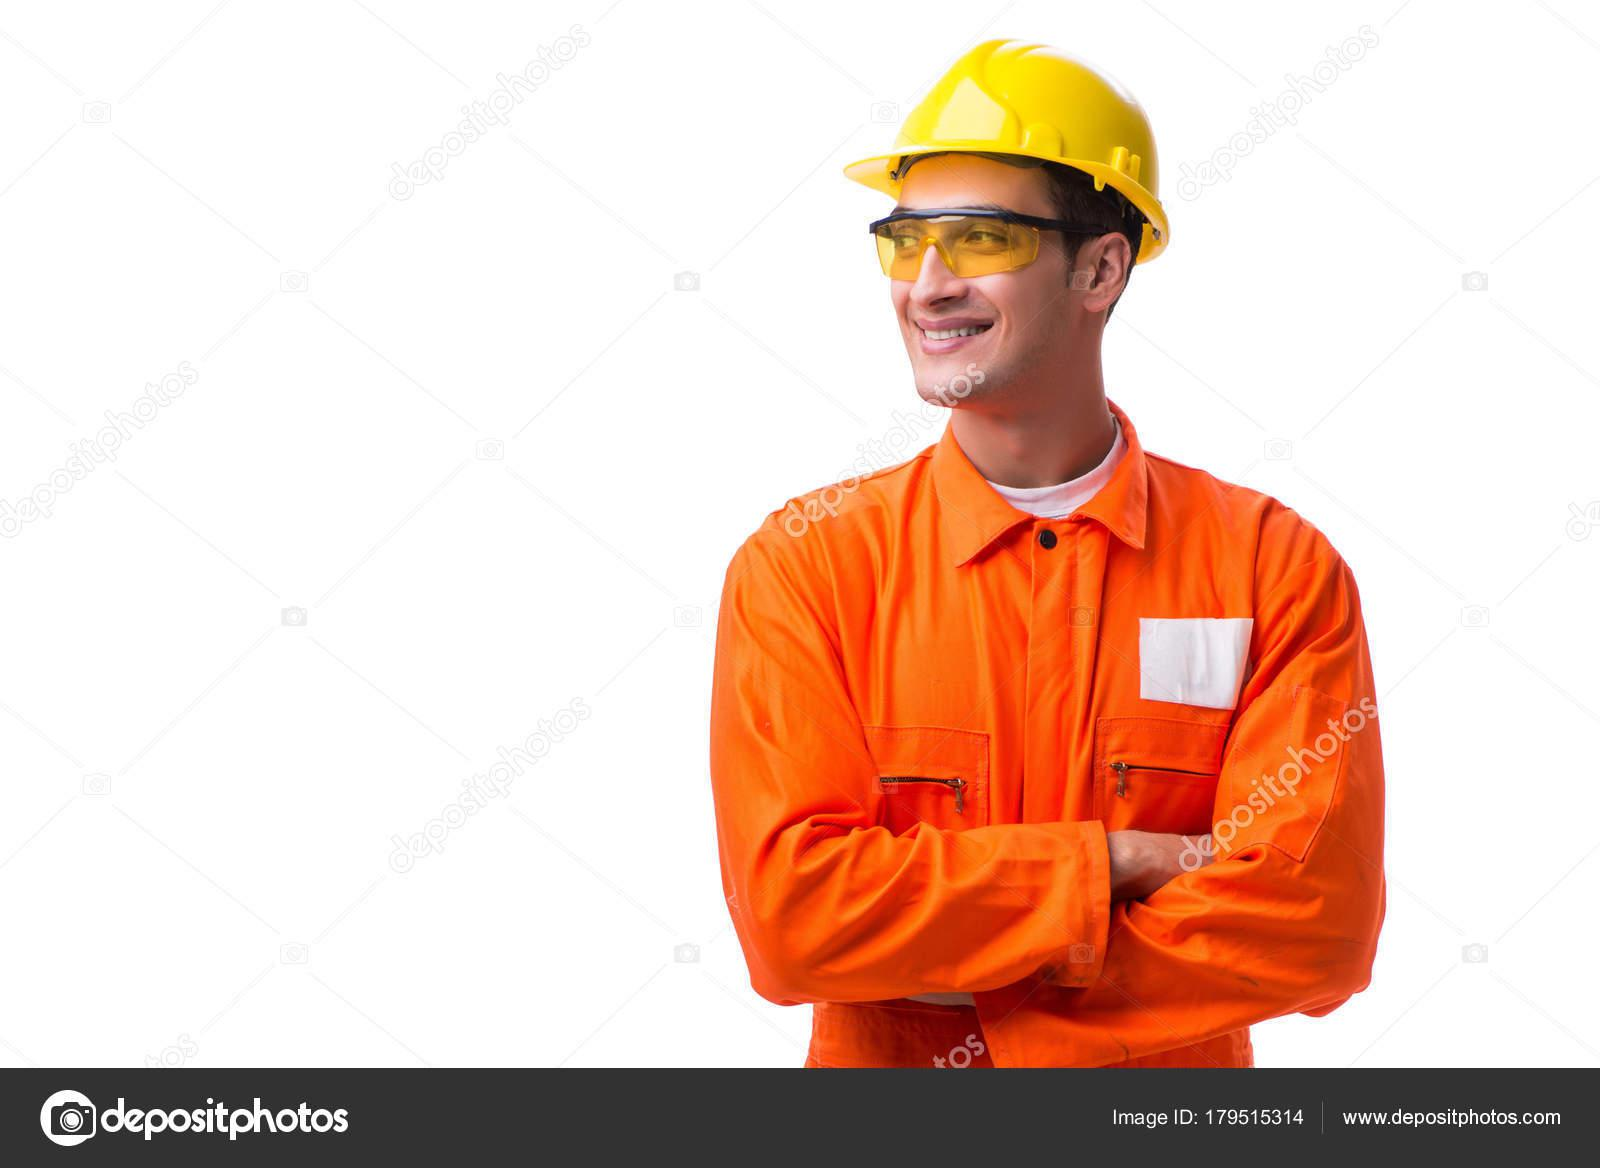hardhat: (840, 36, 1178, 228)
worker: (705, 30, 1386, 1065)
